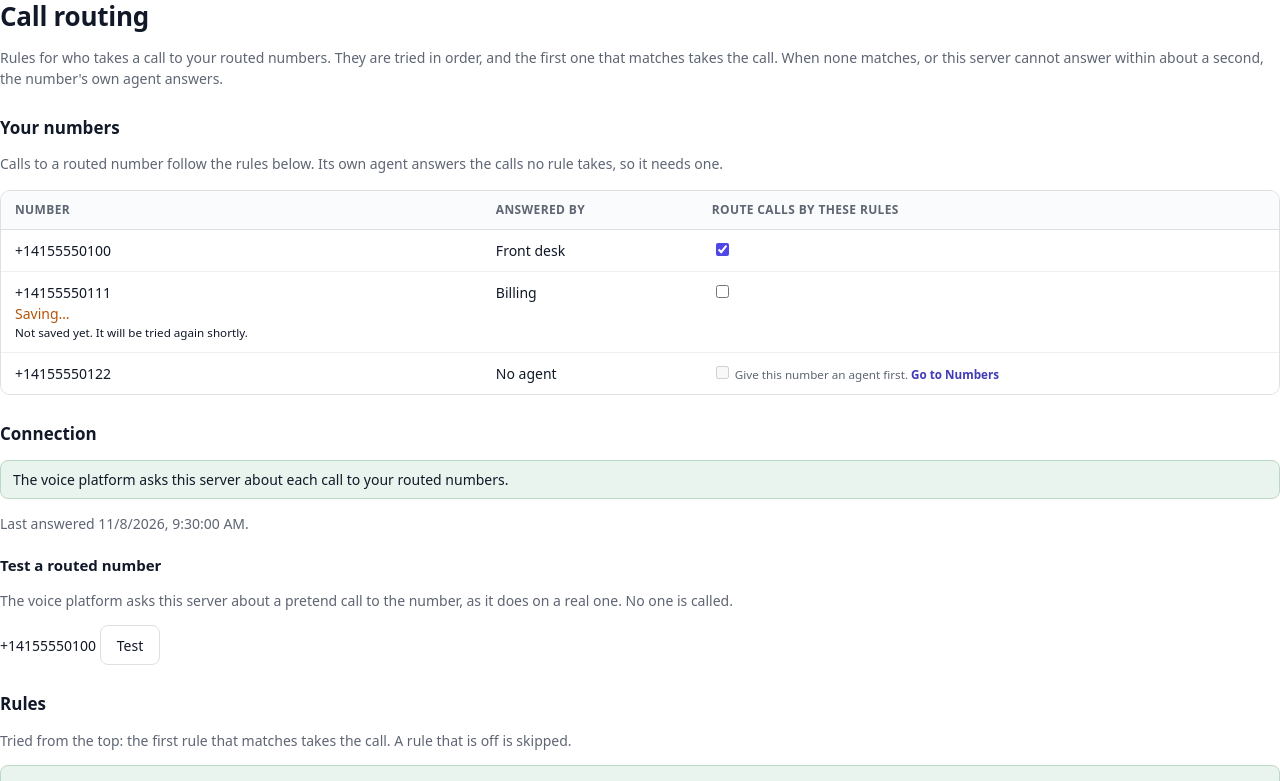
Test: call routing: the connection and the platform's test › tests a routed number: answered in N ms and what it would do, or why there was no answer
Expected: the heading "Rules" is shown, [0, 692, 46, 715]
Expected: the list items read "+14155550100 Test", in this order, [0, 625, 160, 665]
Click the button with aria-label "Test +14155550100" at coordinates (130, 645), box [100, 625, 160, 665]
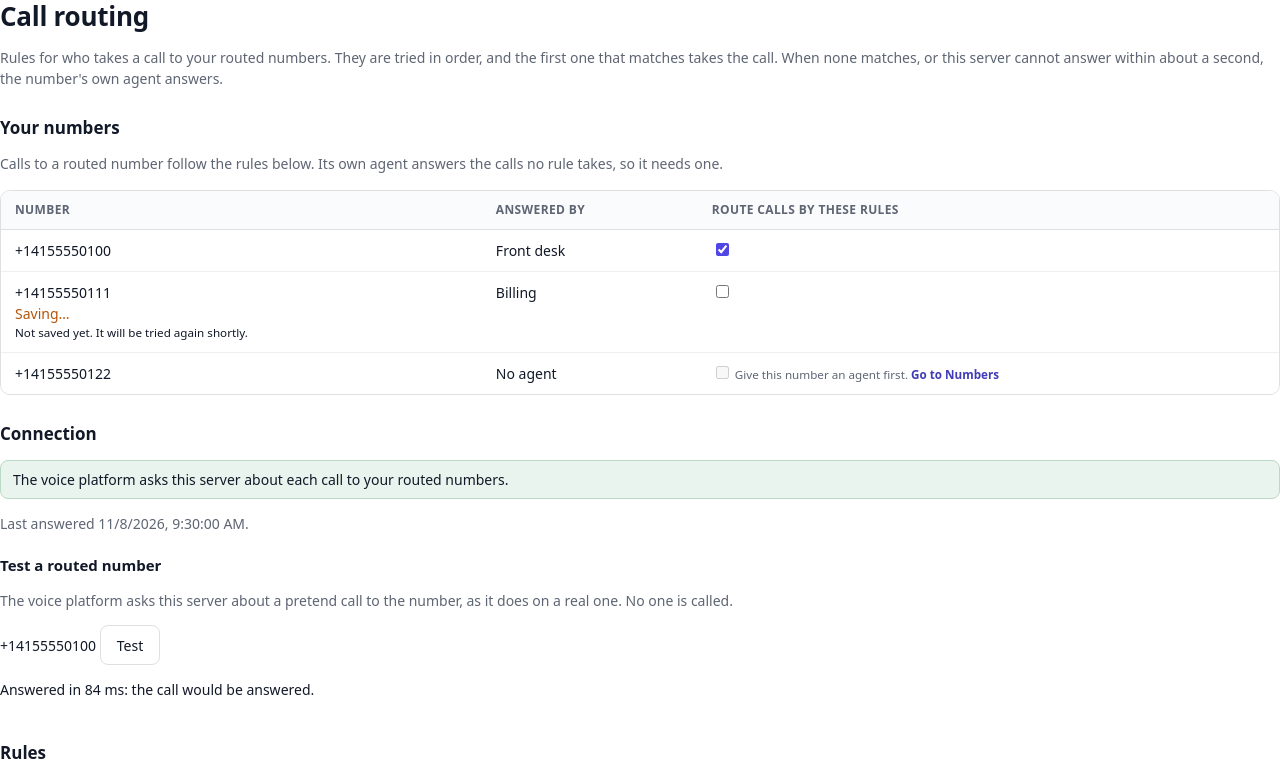
Result: the message reads "Answered in 84 ms: the call would be answered." at [0, 680, 314, 699]
Click the button with aria-label "Test +14155550100" at coordinates (130, 645), box [100, 625, 160, 665]
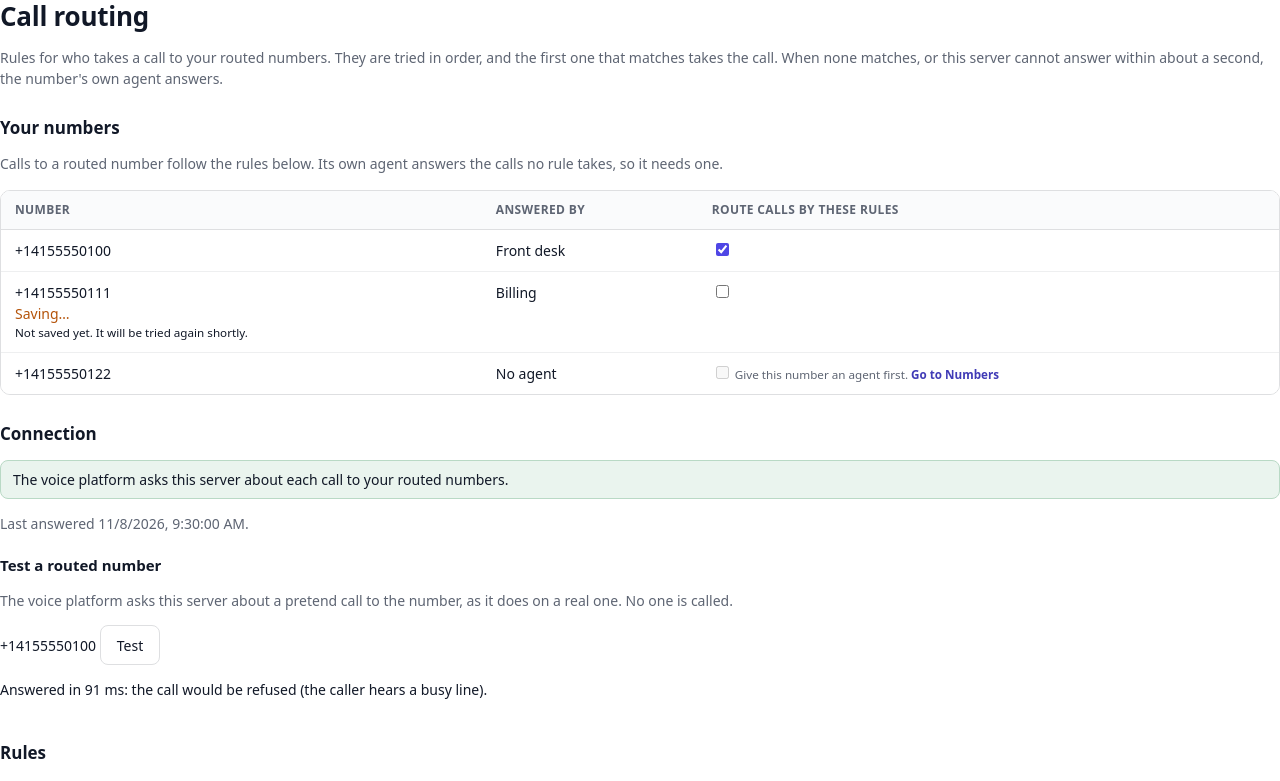
Result: the message reads "Answered in 91 ms: the call would be refused (the caller hears a busy line)." at [0, 680, 487, 699]
Click the button with aria-label "Test +14155550100" at coordinates (130, 645), box [100, 625, 160, 665]
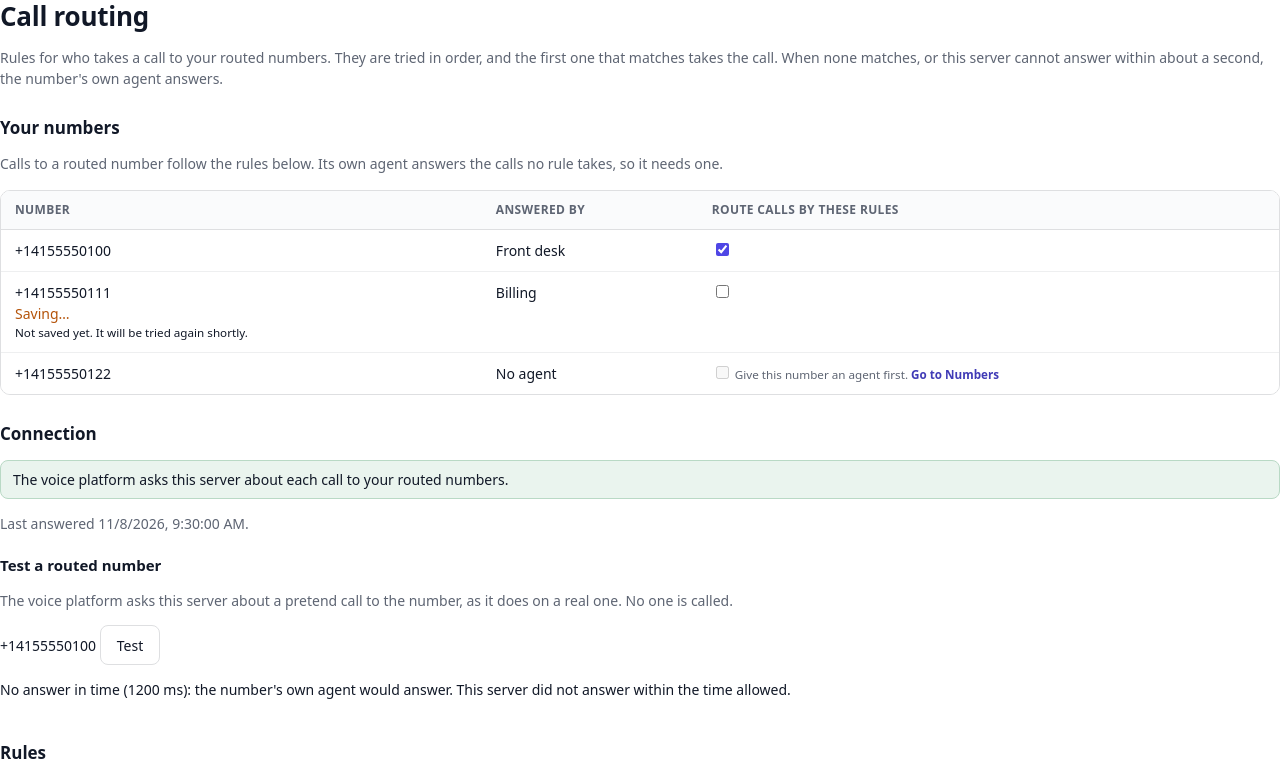
Result: the message shows "No answer in time (1200 ms): the number's own agent would answer. This server did not answer within the time allowed." at [0, 680, 791, 699]
Click the button with aria-label "Test +14155550100" at coordinates (130, 645), box [100, 625, 160, 665]
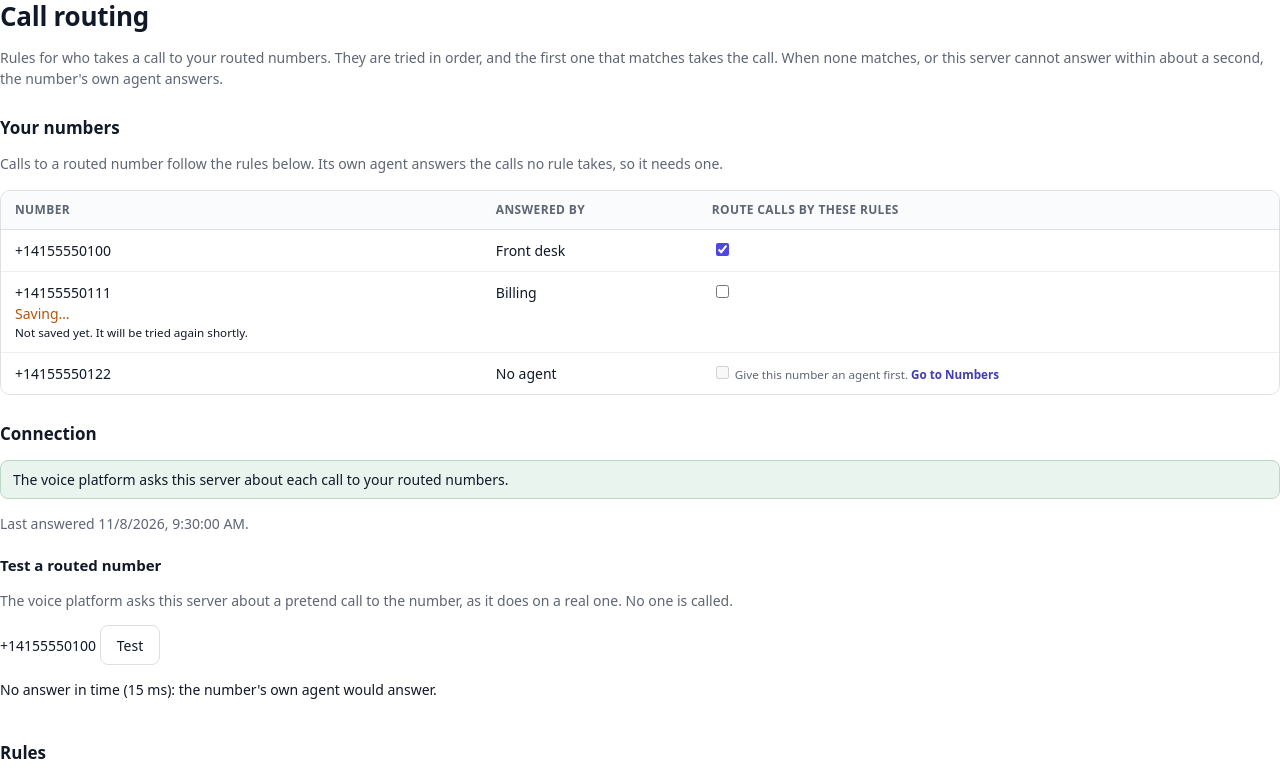
Result: the message reads "No answer in time (15 ms): the number's own agent would answer." at [0, 680, 437, 699]
Click the button with aria-label "Test +14155550100" at coordinates (130, 645), box [100, 625, 160, 665]
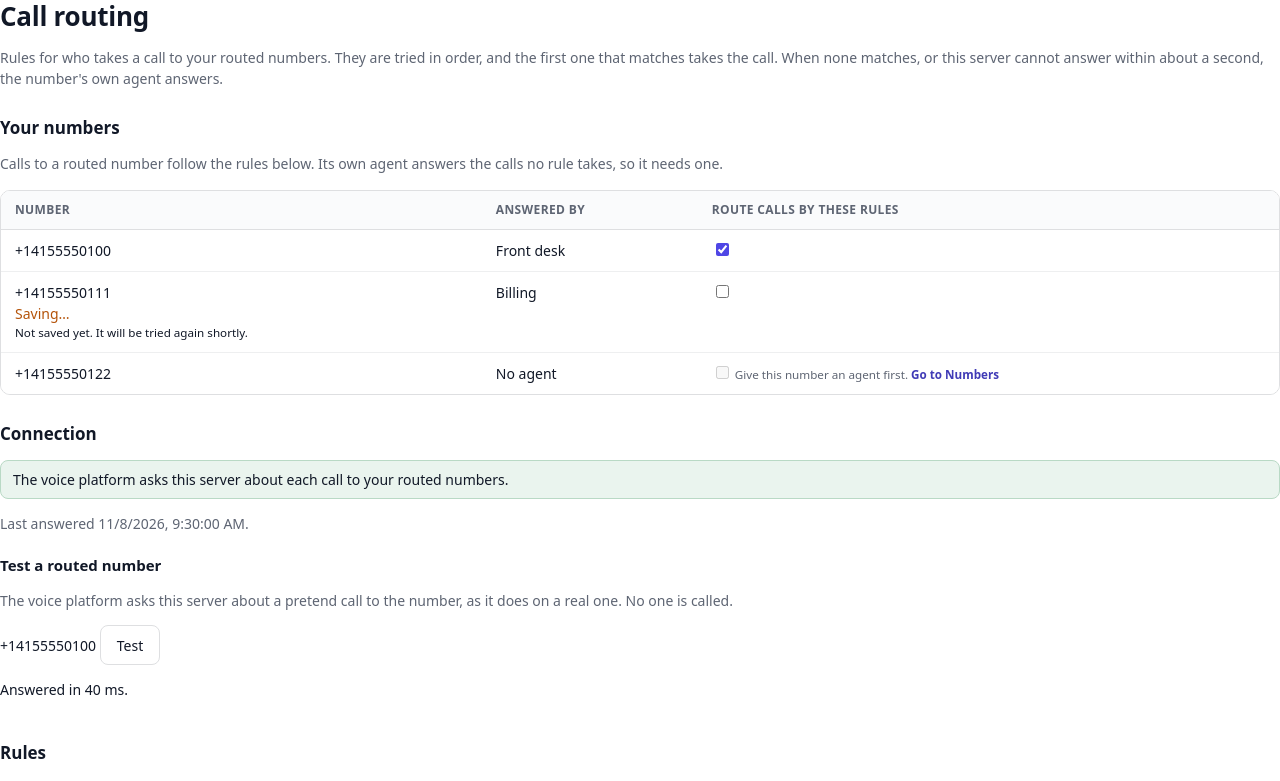
Result: the message reads "Answered in 40 ms." at [0, 680, 128, 699]
